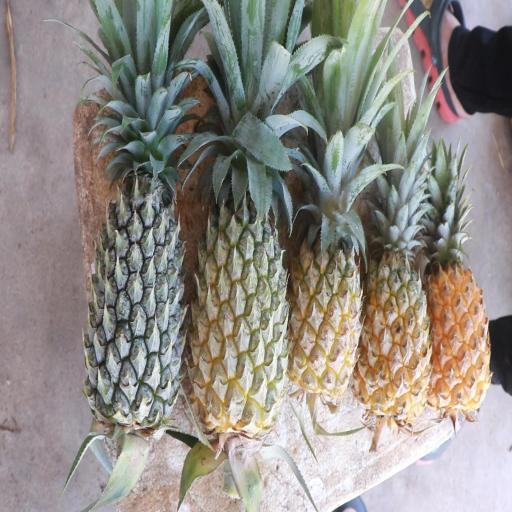------------------------------: (197, 143, 284, 433)
Pineapple - v8 v1: (291, 172, 365, 396), (364, 202, 430, 416), (426, 216, 488, 407)
